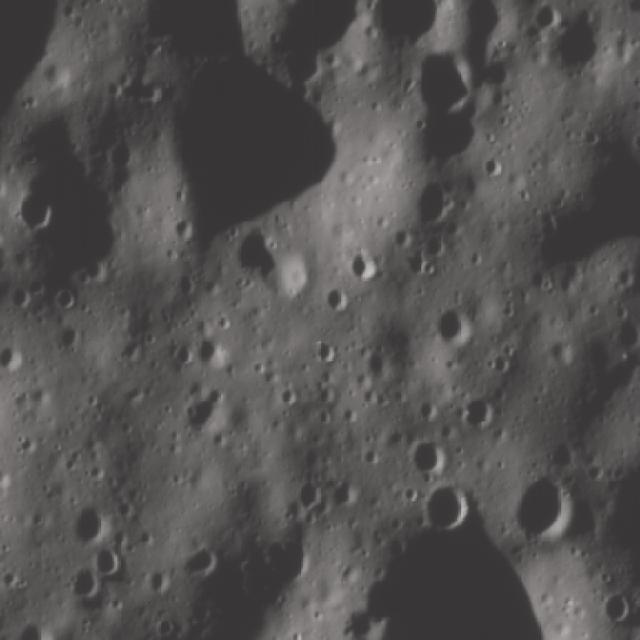crater: (232, 222, 323, 302), (510, 466, 588, 549), (402, 43, 482, 122), (545, 10, 612, 84), (403, 175, 466, 234), (420, 475, 477, 537), (342, 234, 396, 286), (430, 298, 481, 350), (459, 388, 504, 439), (408, 433, 452, 485), (12, 188, 62, 232), (67, 500, 110, 551), (181, 540, 225, 582), (92, 535, 132, 580), (67, 564, 107, 605), (327, 472, 364, 514), (320, 277, 358, 317), (290, 476, 328, 516), (310, 335, 342, 371), (480, 154, 515, 183), (168, 214, 201, 243), (50, 286, 79, 317)
